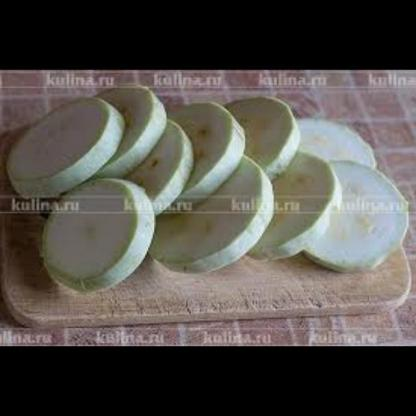vegetable marrow: (6, 69, 406, 287)
